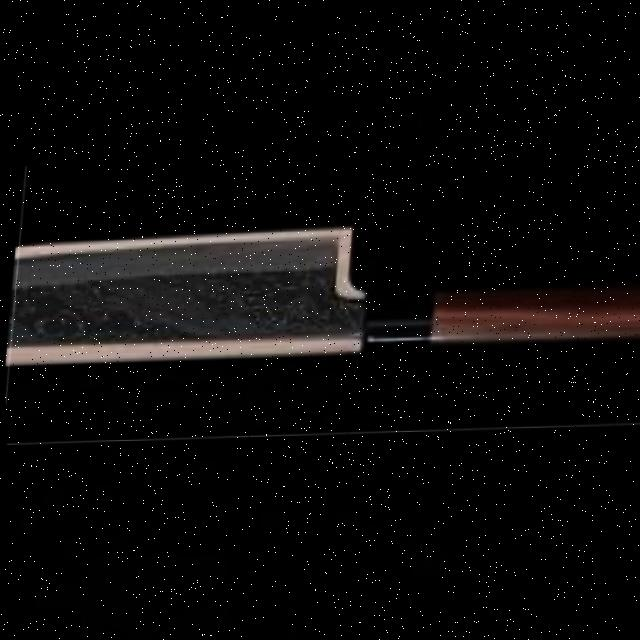knife: (1, 226, 640, 355)
